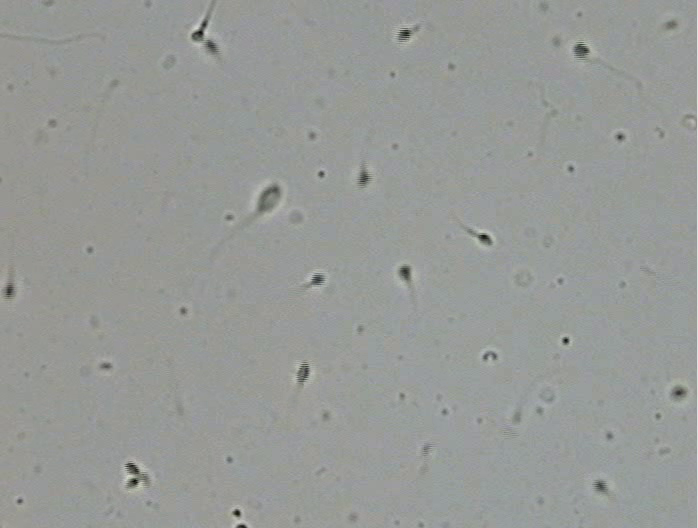S: (256, 184, 283, 213), (573, 40, 590, 61), (296, 360, 310, 385), (357, 170, 372, 188), (395, 28, 413, 43), (124, 461, 140, 475), (592, 479, 608, 493), (310, 272, 326, 286), (205, 39, 219, 54), (671, 386, 687, 399), (3, 283, 15, 300), (398, 265, 411, 280), (478, 233, 493, 246), (191, 29, 204, 42), (125, 478, 139, 488)
